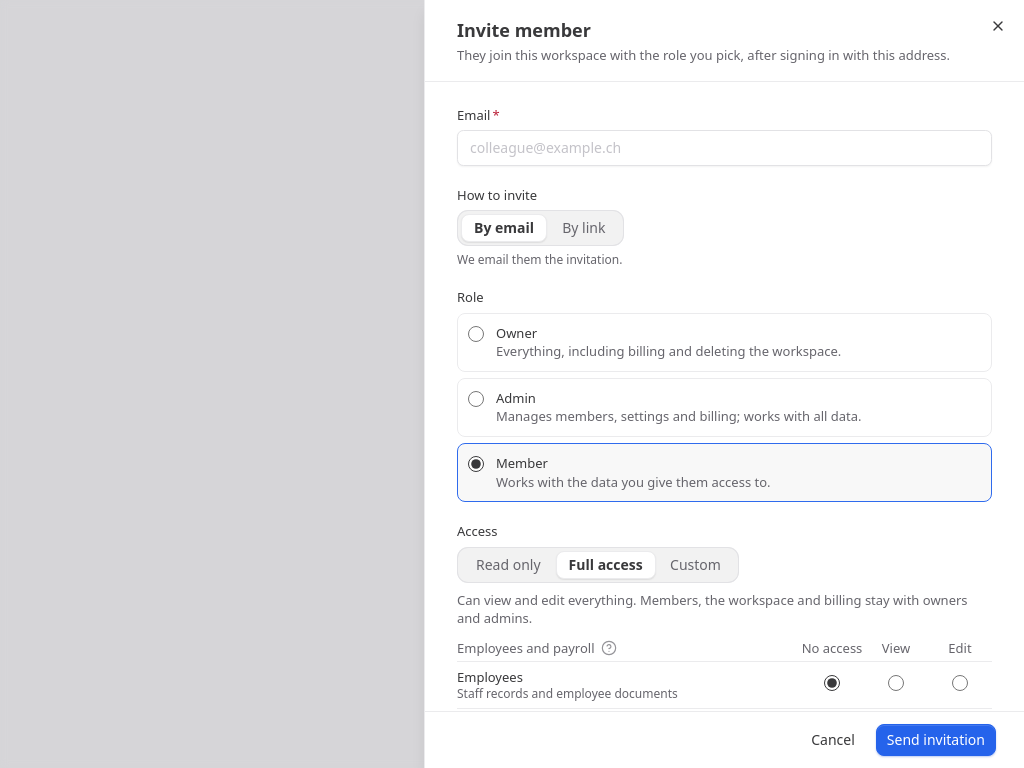
Test: Custom sends one scope per row of the matrix
Later steps or results of the test are not shown.
Click the 1st radio button labelled "Read only".
click(508, 564)  # box [476,555,541,574]
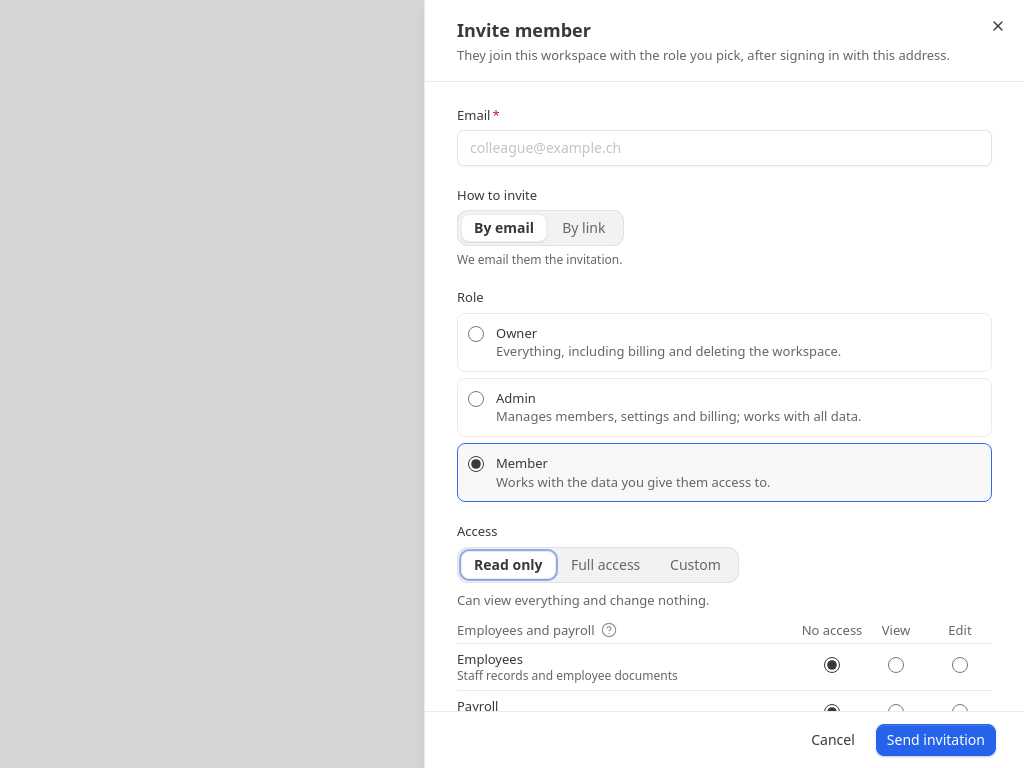
Click the 1st radio button labelled "Custom".
click(696, 564)  # box [670,555,721,574]
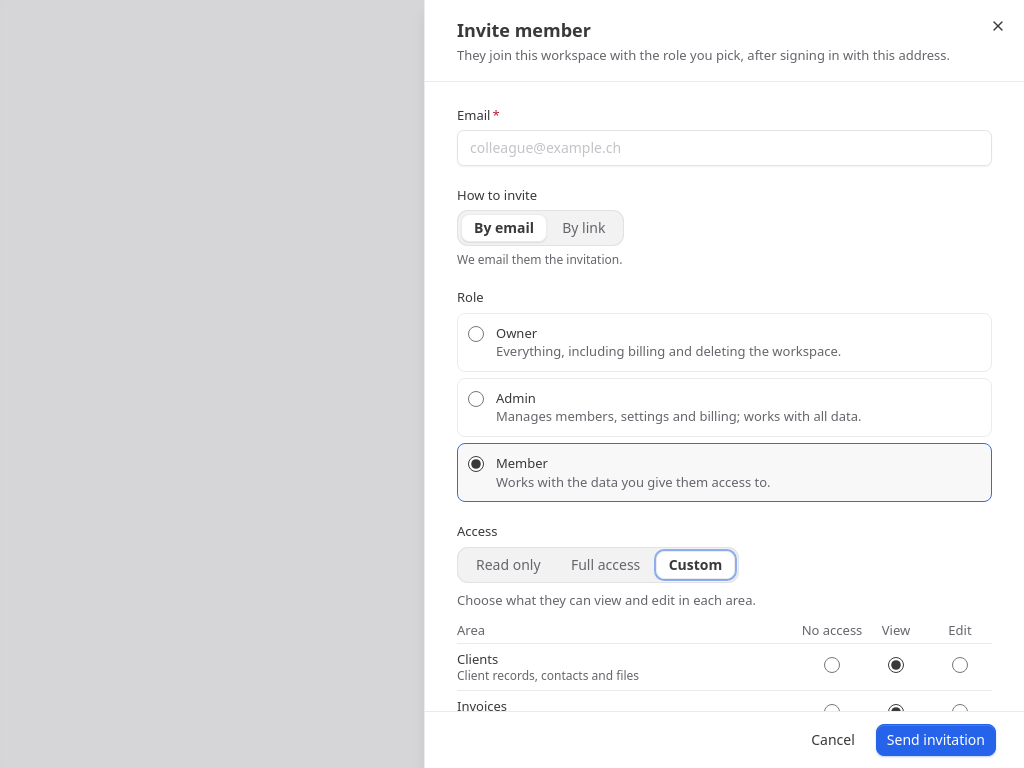
Check: the text "Choose what they can view and edit in each area." is shown, box [457,591,756,609]
Check: the text "Can view everything and change nothing." is gone
